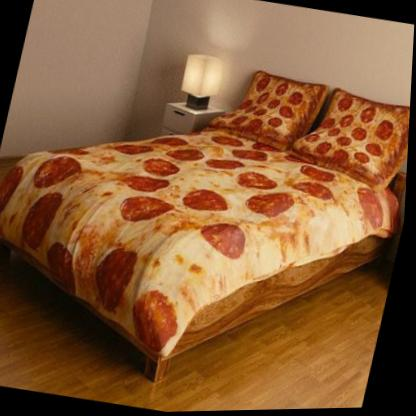Bed: (0, 34, 414, 416)
